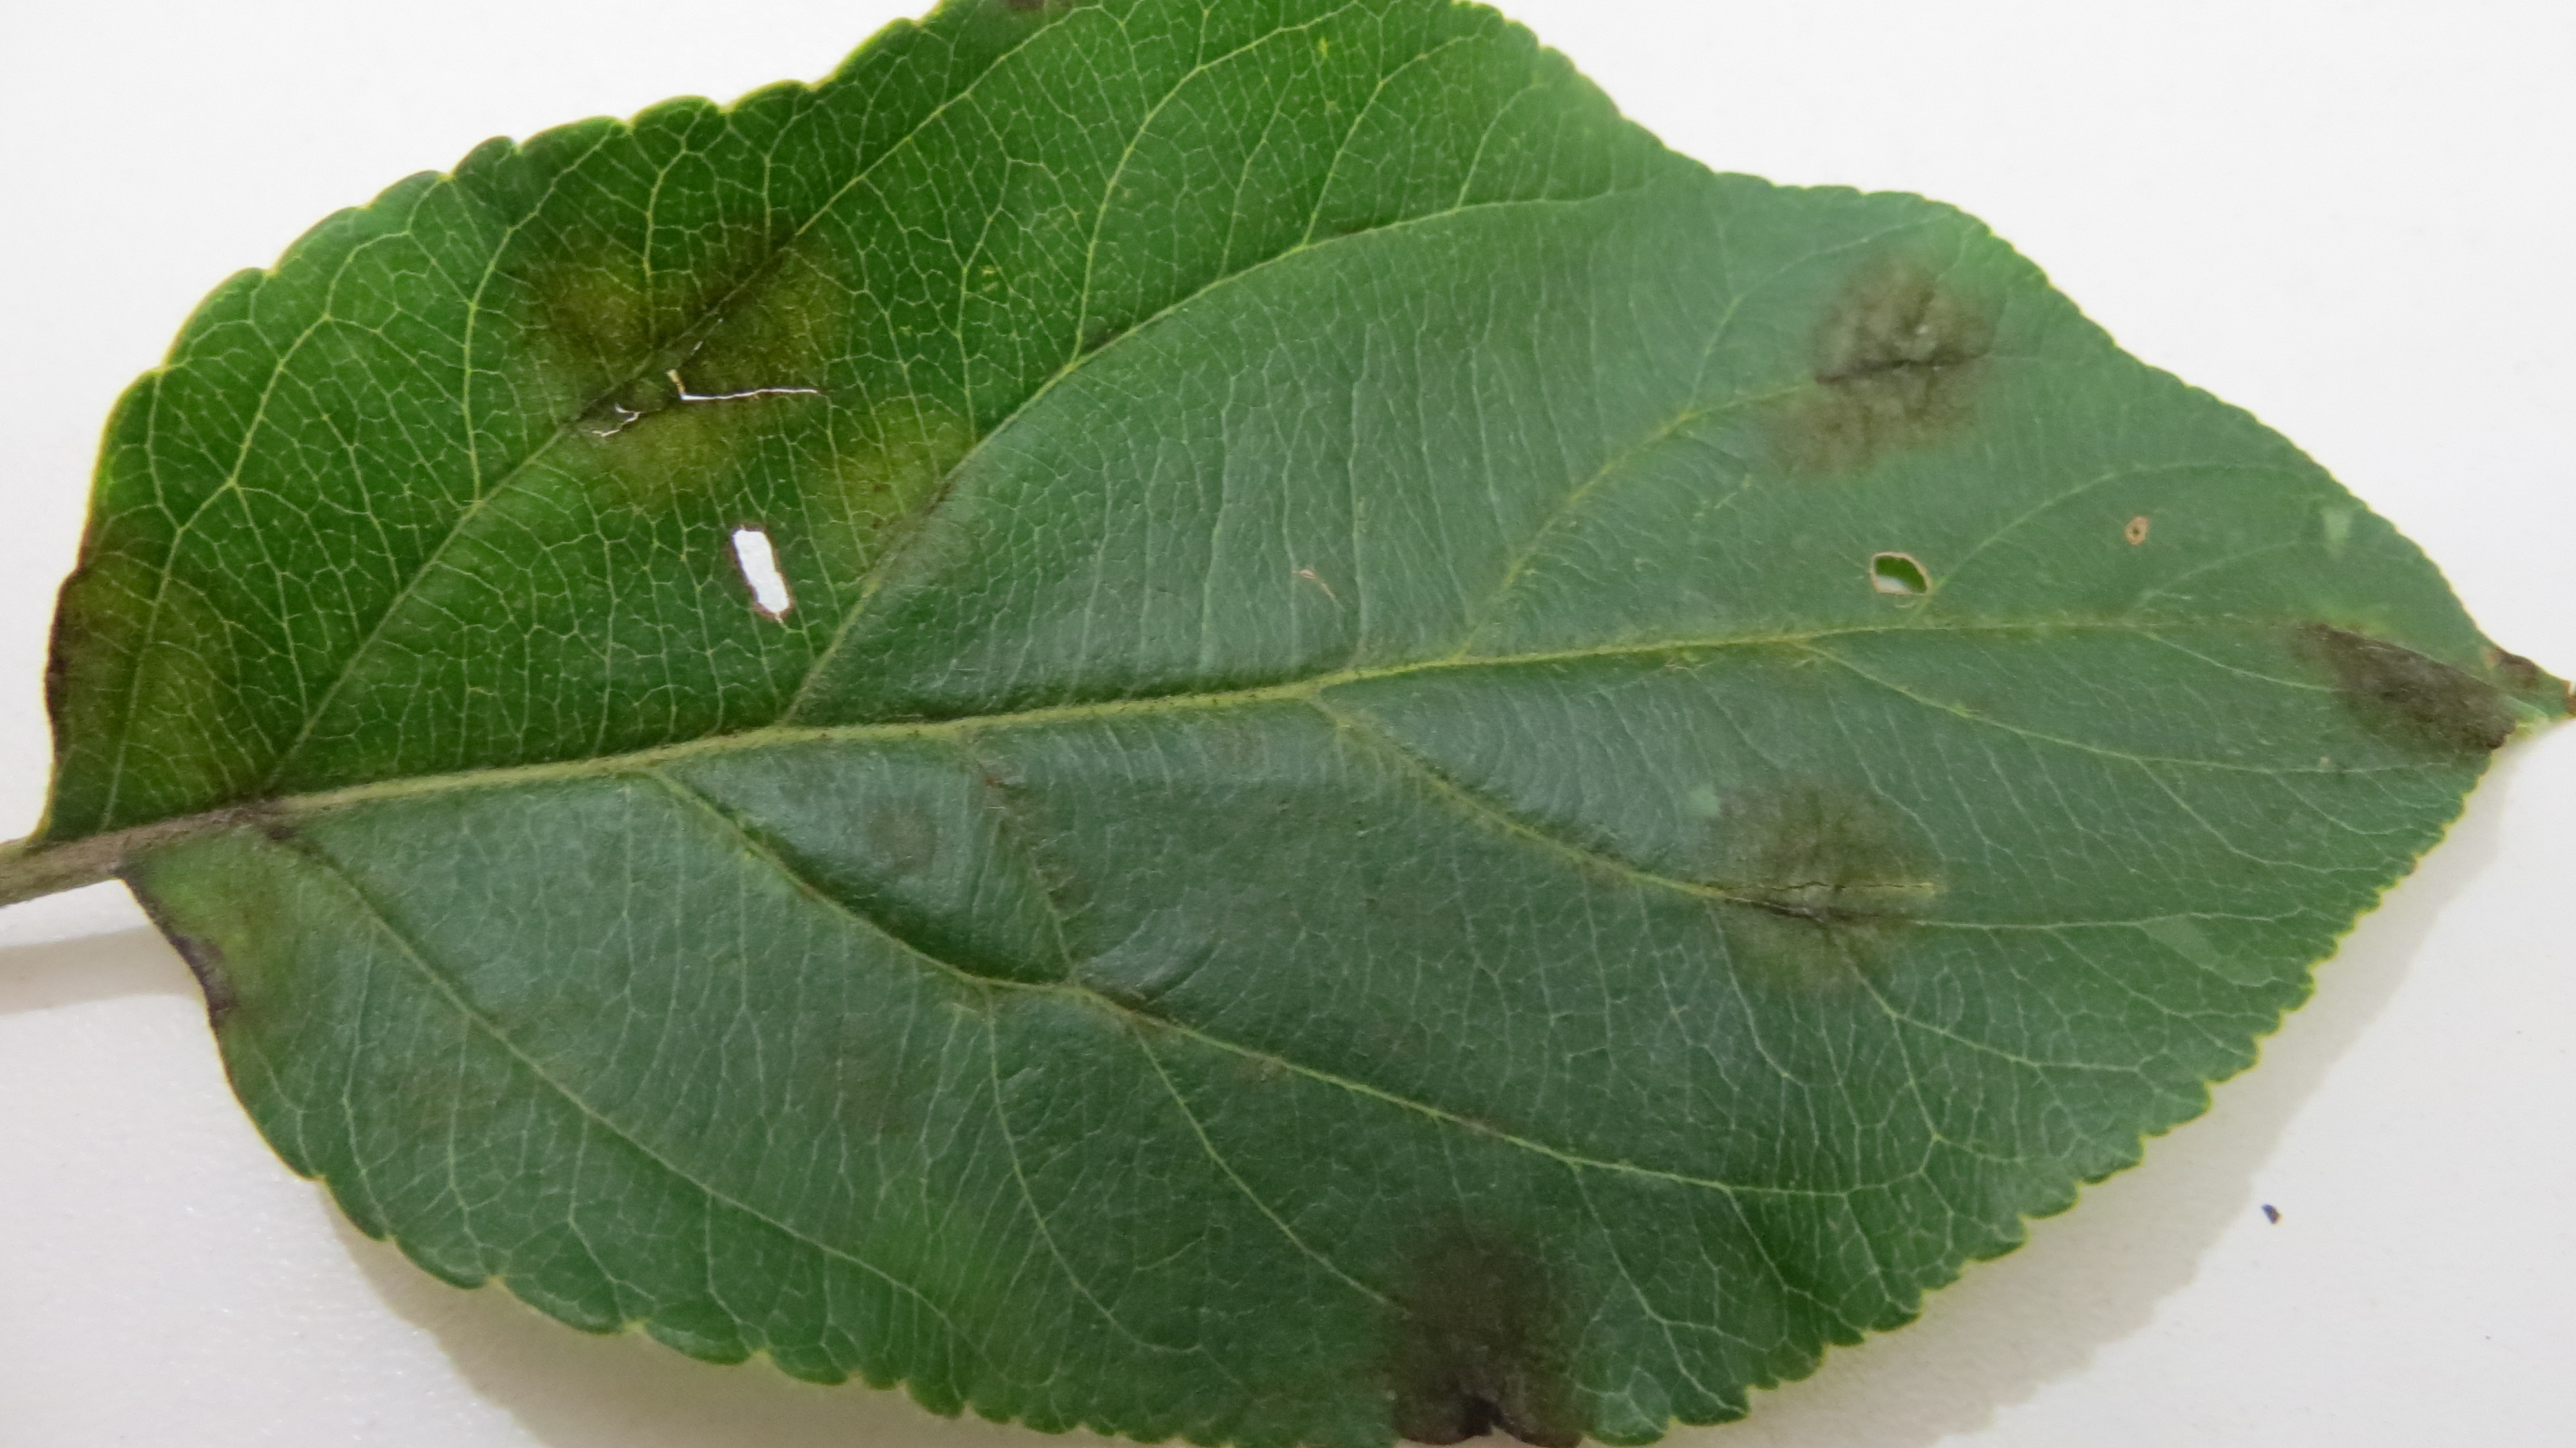sarna: (524, 220, 835, 464), (1702, 770, 1941, 1005), (1762, 246, 1992, 474), (1369, 1214, 1583, 1437), (35, 526, 225, 749), (805, 414, 993, 598), (2304, 611, 2512, 770), (809, 1013, 939, 1145), (138, 892, 249, 1041), (225, 751, 333, 871), (840, 788, 959, 880), (1056, 956, 1175, 1048), (959, 738, 1037, 834), (2098, 485, 2171, 568)
